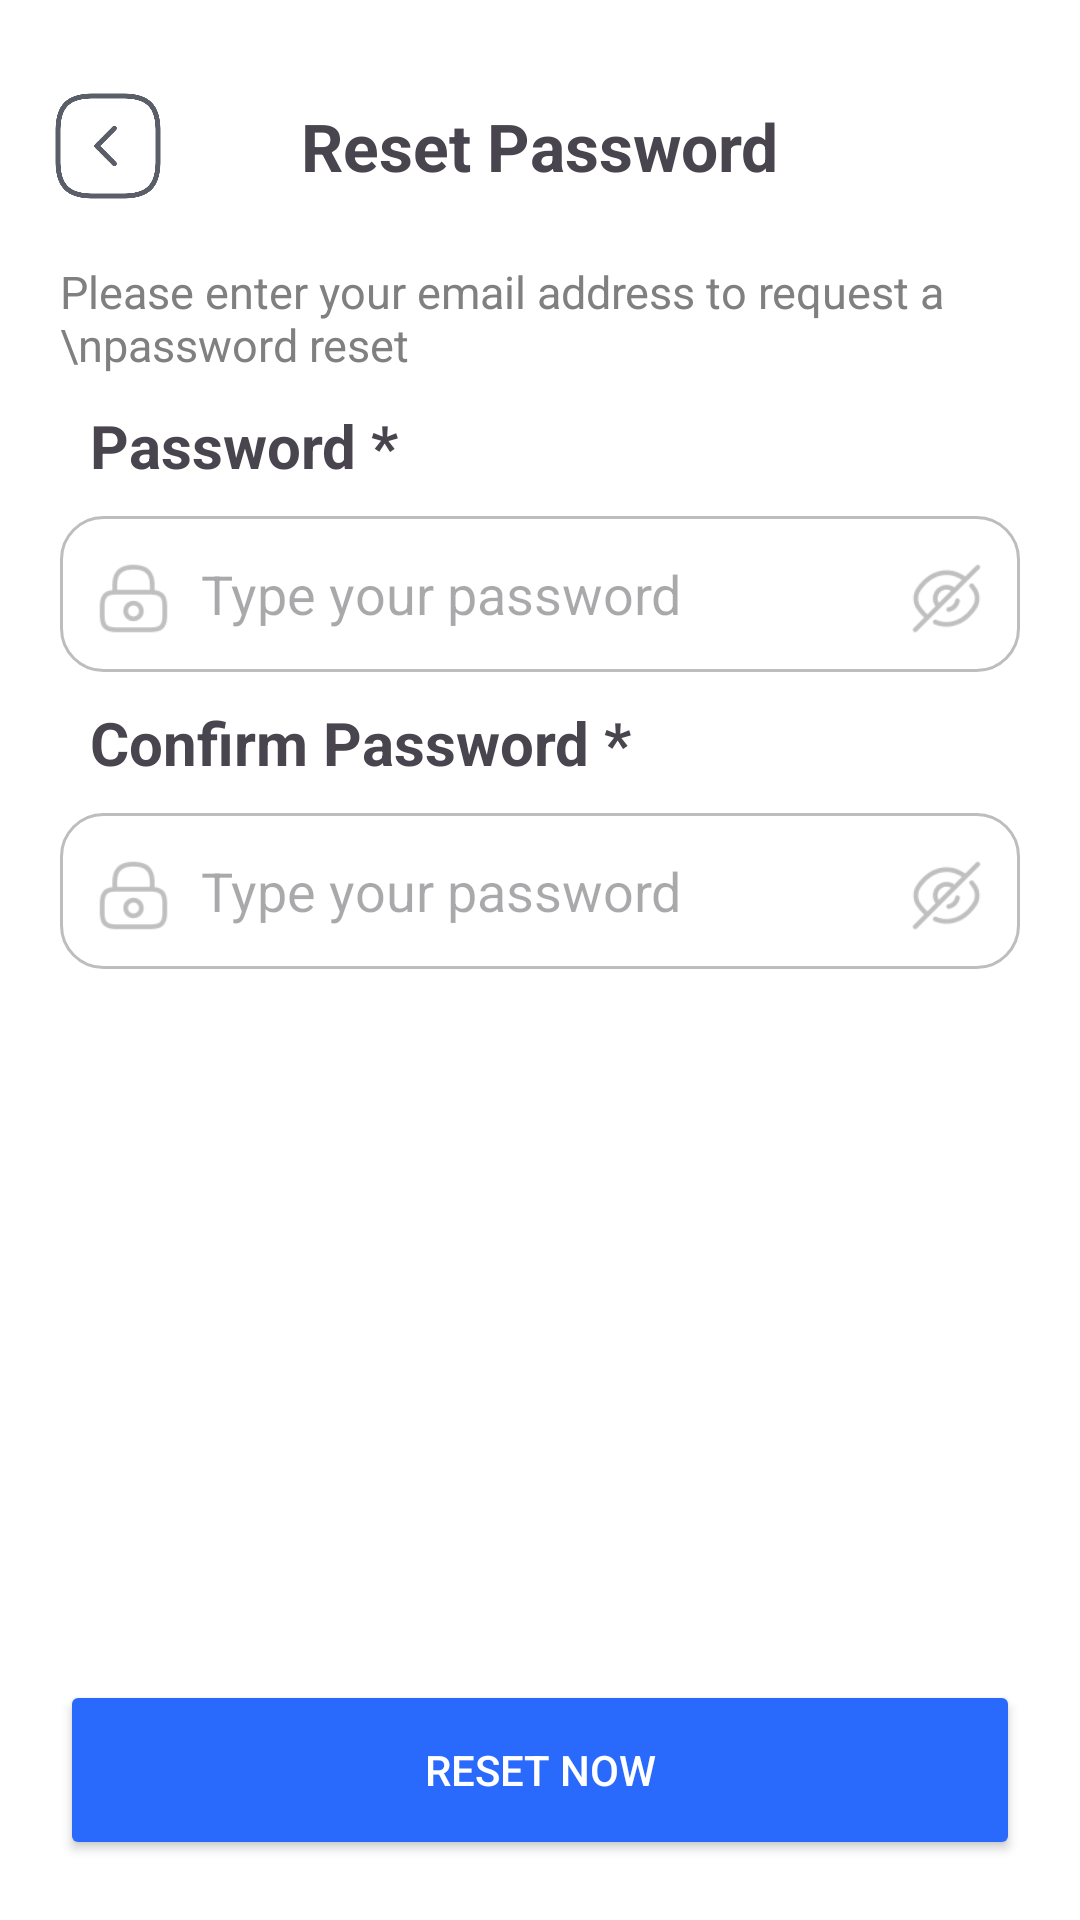

Locate icon controls on the screen. Image size 1080px x 1920px, boxes as (x1, y1, x2, y2).
arrow back: (55, 93, 161, 199)
